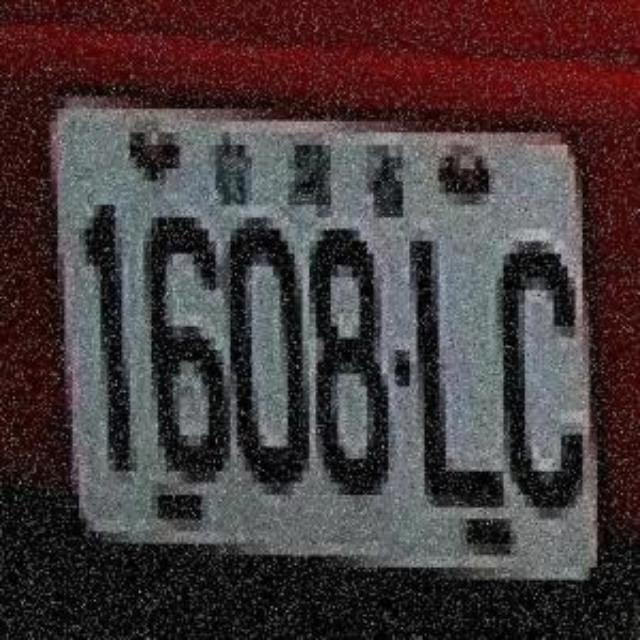License Plate: (19, 57, 618, 613)
